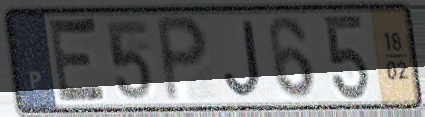5: (102, 17, 158, 102), (320, 12, 372, 103)
6: (266, 13, 319, 102)
E: (47, 14, 111, 108)
J: (220, 17, 265, 100)
P: (153, 13, 212, 106)
